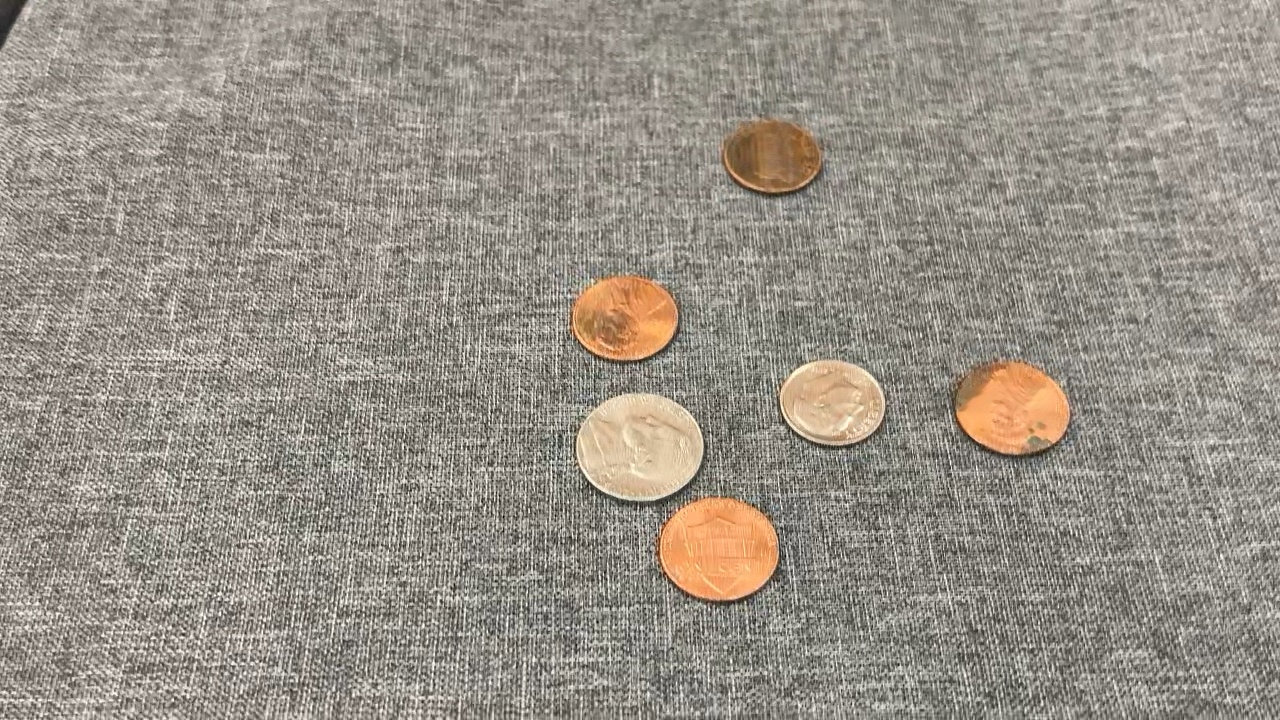dime: (781, 359, 891, 452)
nickel: (572, 393, 708, 506)
penny: (658, 498, 783, 605), (956, 361, 1073, 453), (568, 273, 679, 362), (725, 116, 823, 196)
